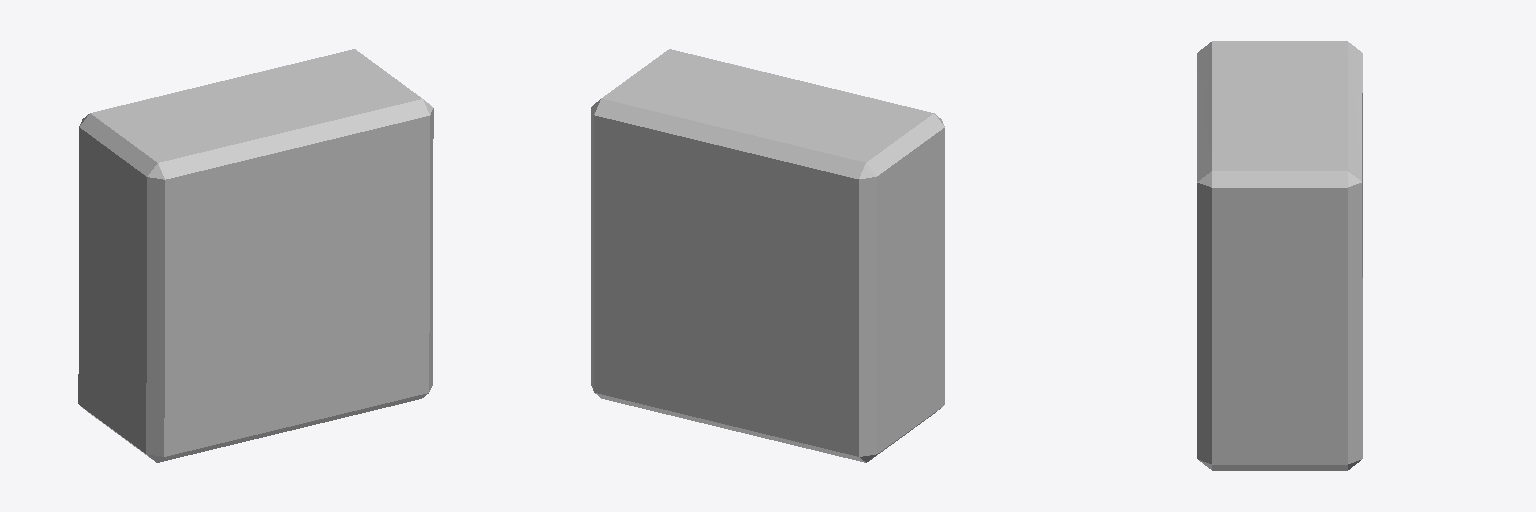
Rendered from torso.obj.
3 renders of one model, left to right at view 1: azimuth 30°, elevation 25°; view 2: azimuth 150°, elevation 25°; view 3: azimuth 270°, elevation 25°, orthographic.
Visible parts, largest first — view 1: Torso1; view 2: Torso1; view 3: Torso1.
Part boxes in pixels (bbox=[...]): Torso1: bbox=[78, 49, 433, 462]; Torso1: bbox=[591, 49, 944, 462]; Torso1: bbox=[1197, 41, 1362, 470].
Bounding box in the file's own units: 2 × 2 × 1.